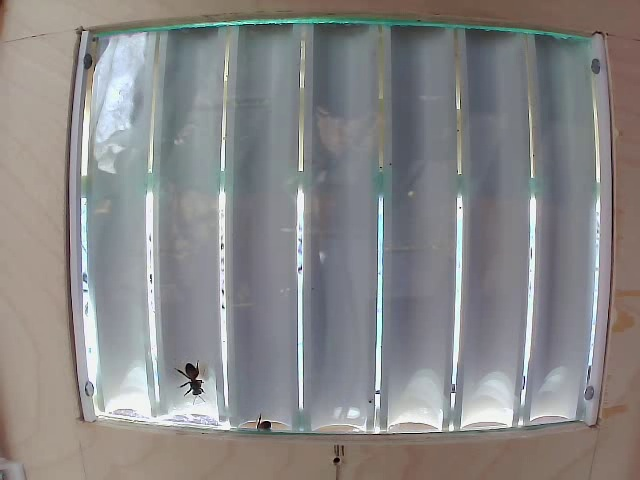bee: (171, 345, 219, 407)
